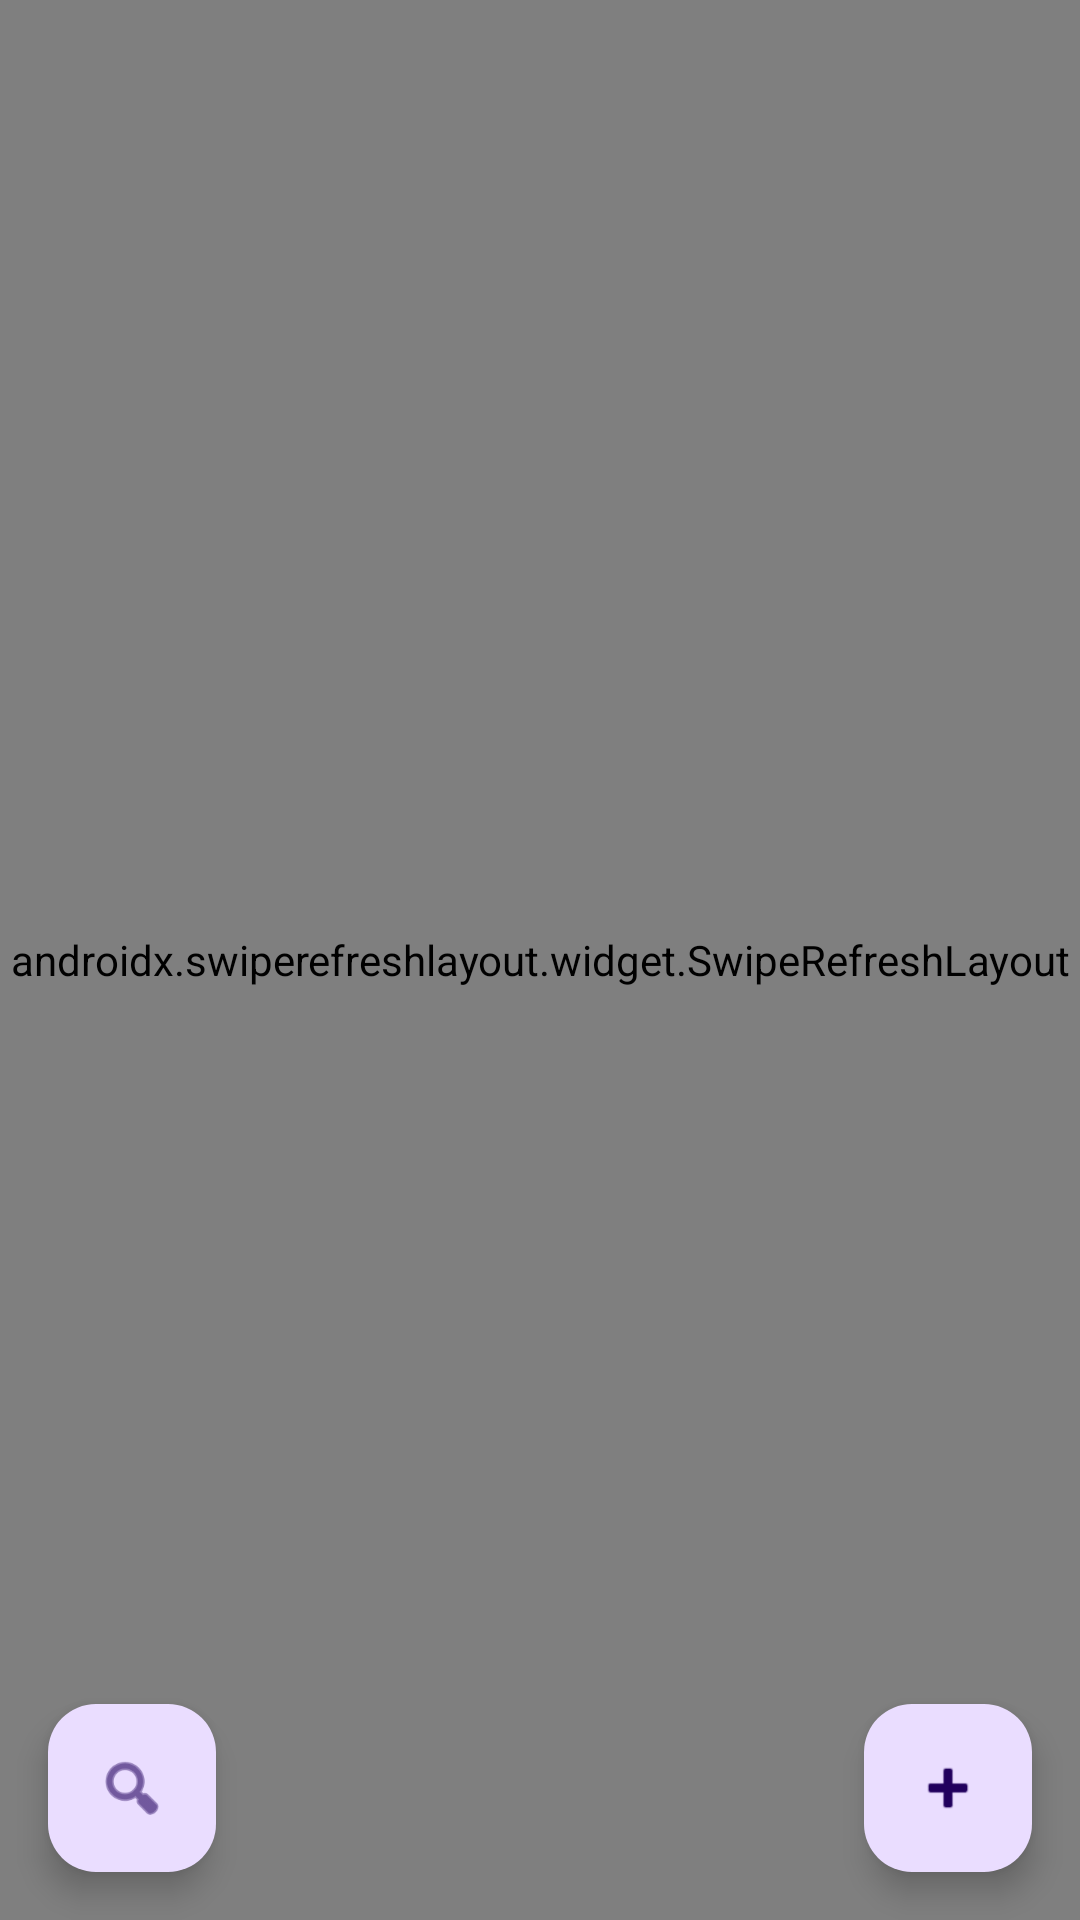

Point at icon controls on the screen. Image size 1080 × 1920, points as (x=x, y=y).
add: (x=948, y=1788)
search: (x=132, y=1788)
